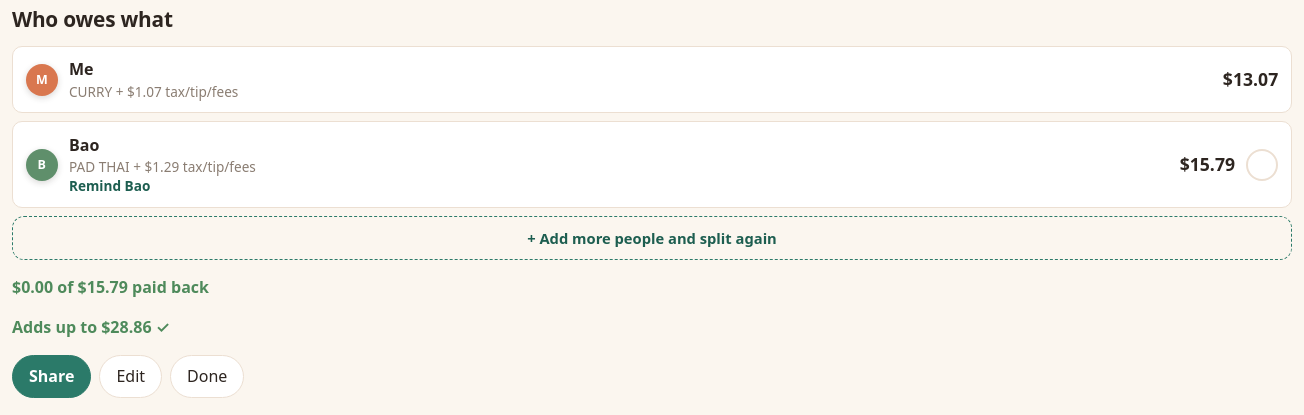
it: SplitFlow › ticking someone as paid shows at once and is saved against this split
The width and height of the screenshot is (1304, 415).
Click the button named "Mark Bao as paid". click: (1262, 165)
box: [1246,149,1278,181]
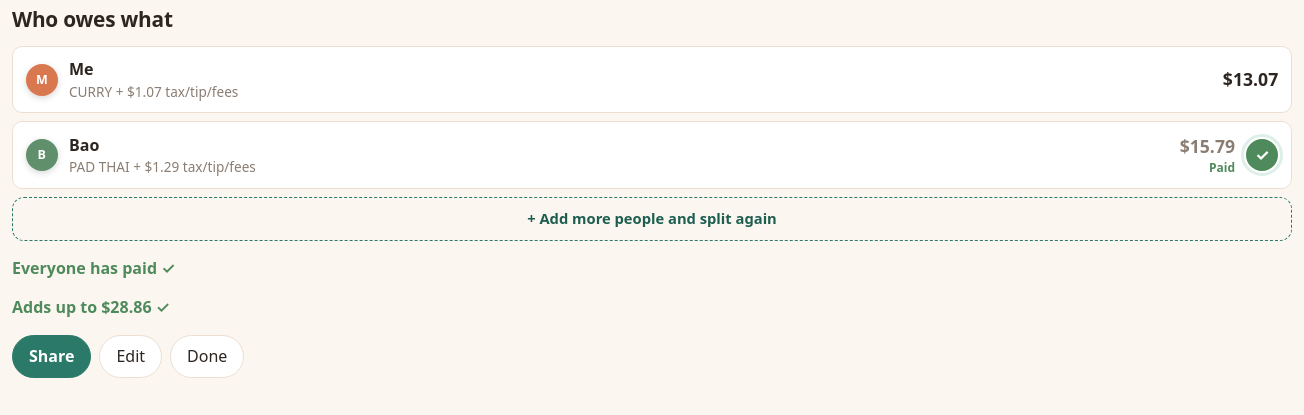
Check: the list item "B Bao PAD THAI + $1.29 tax/tip/fees $15.79 Paid ✓" is shown, box [12,121,1292,189]
Check: the text "Everyone has paid ✓" is shown, box [12,257,175,279]
